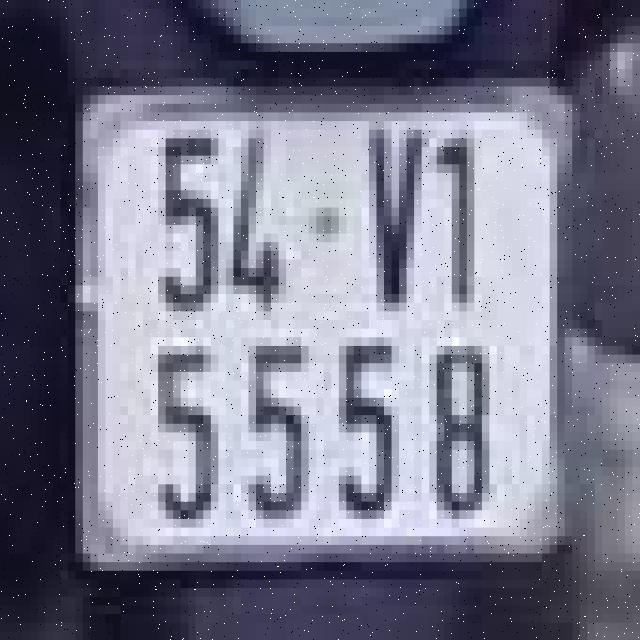1: (433, 117, 493, 316)
4: (222, 117, 298, 324)
5: (139, 333, 230, 541), (146, 121, 230, 311), (241, 337, 324, 528), (335, 333, 403, 523)
8: (422, 329, 504, 536)
V: (354, 117, 429, 316)
